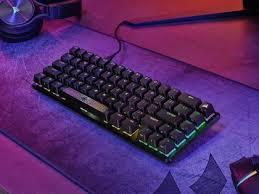keyboard: (31, 45, 220, 163)
